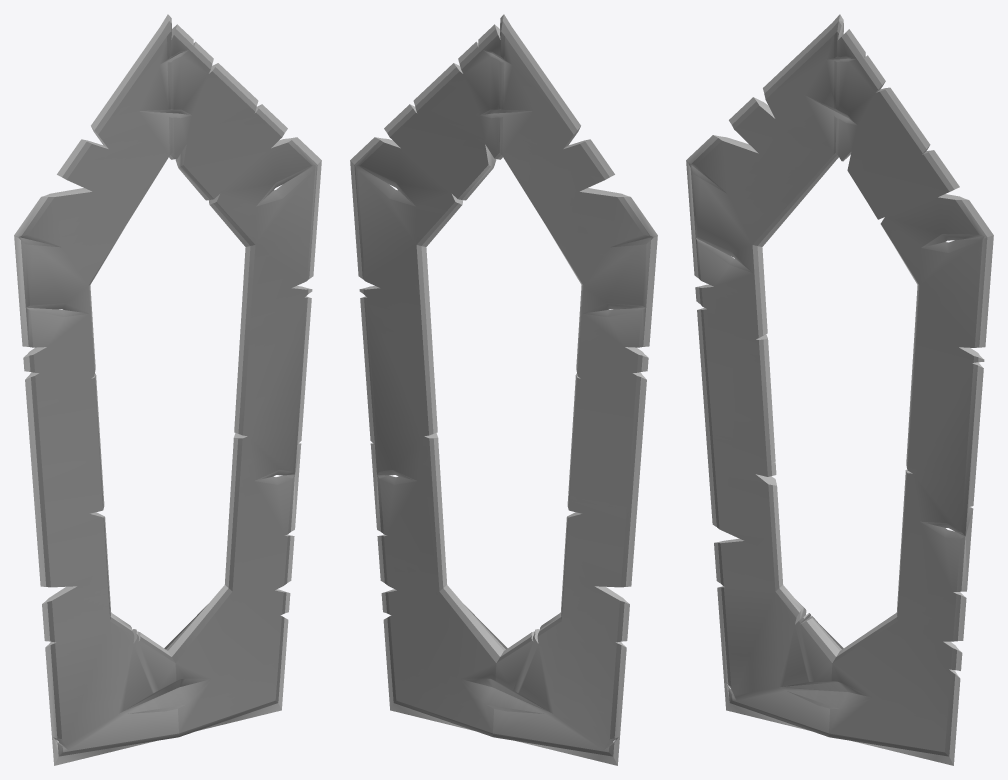
File: stone_blade_scratched_046.glb
3 views of the same model, side by side, from view 1: azimuth 30°, elevation 25°; view 2: azimuth 150°, elevation 25°; view 3: azimuth 330°, elevation 25° (orthographic).
Visible parts, largest first — view 1: stone_blade_scratched.046; view 2: stone_blade_scratched.046; view 3: stone_blade_scratched.046.
Boxes of the visible parts, left/top/right/bottom form: stone_blade_scratched.046: left=14, top=14, right=321, bottom=765; stone_blade_scratched.046: left=350, top=14, right=657, bottom=765; stone_blade_scratched.046: left=686, top=14, right=993, bottom=765.
Bounding box in the file's own units: 5.08 × 11.42 × 0.6326.
1 material, 1 textured.
